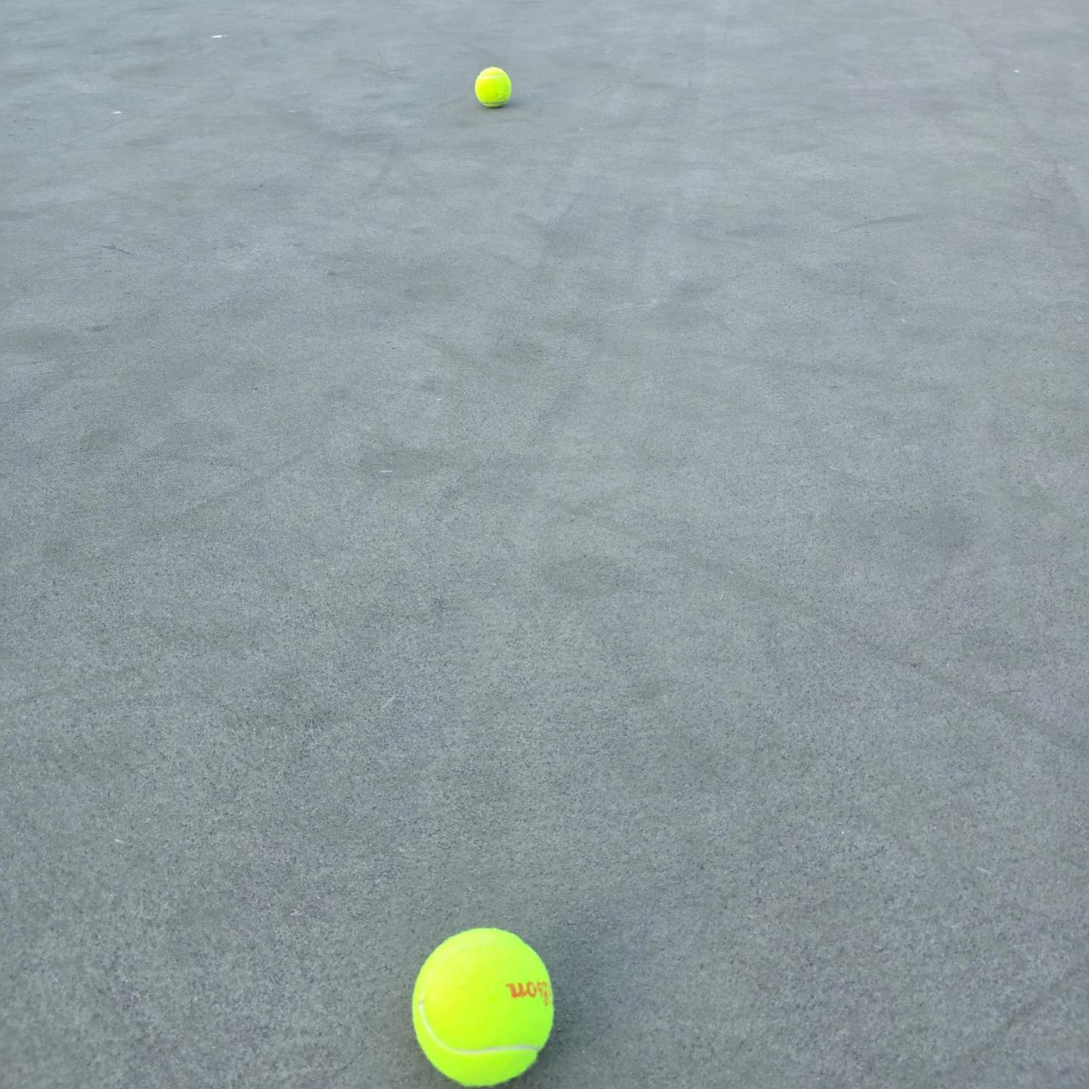tennis-ball: (408, 924, 556, 1085), (473, 64, 512, 108)
